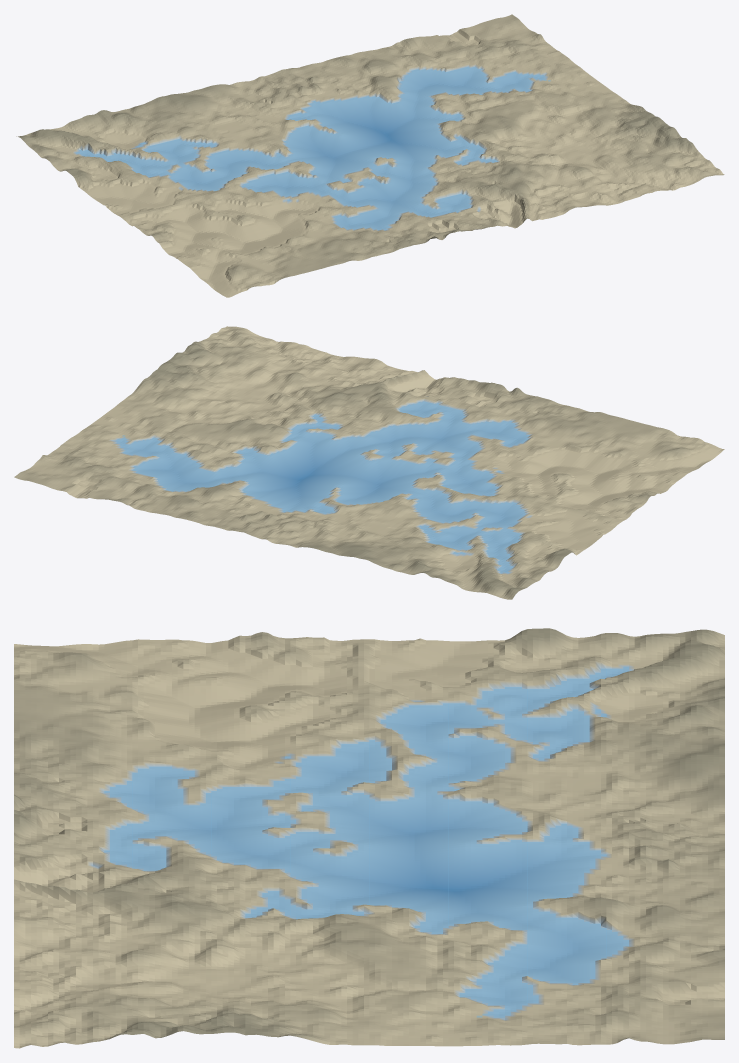
The model's file is lake_minnetonka_mn.glb.
The picture shows the model from 3 angles, top to bottom: view 1: azimuth 30°, elevation 25°; view 2: azimuth 150°, elevation 25°; view 3: azimuth 270°, elevation 25°; orthographic projection. The views are drawn at different scales.
Visible parts, largest first — view 1: terrain, water; view 2: terrain, water; view 3: terrain, water.
Part boxes in pixels (x1,y1,x2,y2): terrain: [16, 14, 724, 297]; water: [76, 67, 550, 230]; terrain: [14, 326, 724, 599]; water: [115, 401, 529, 573]; terrain: [14, 628, 724, 1048]; water: [104, 666, 630, 1017].
Size of the model in its own units: 13642 by 446 by 10092.
